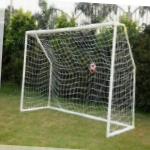goals: (18, 19, 139, 139)
